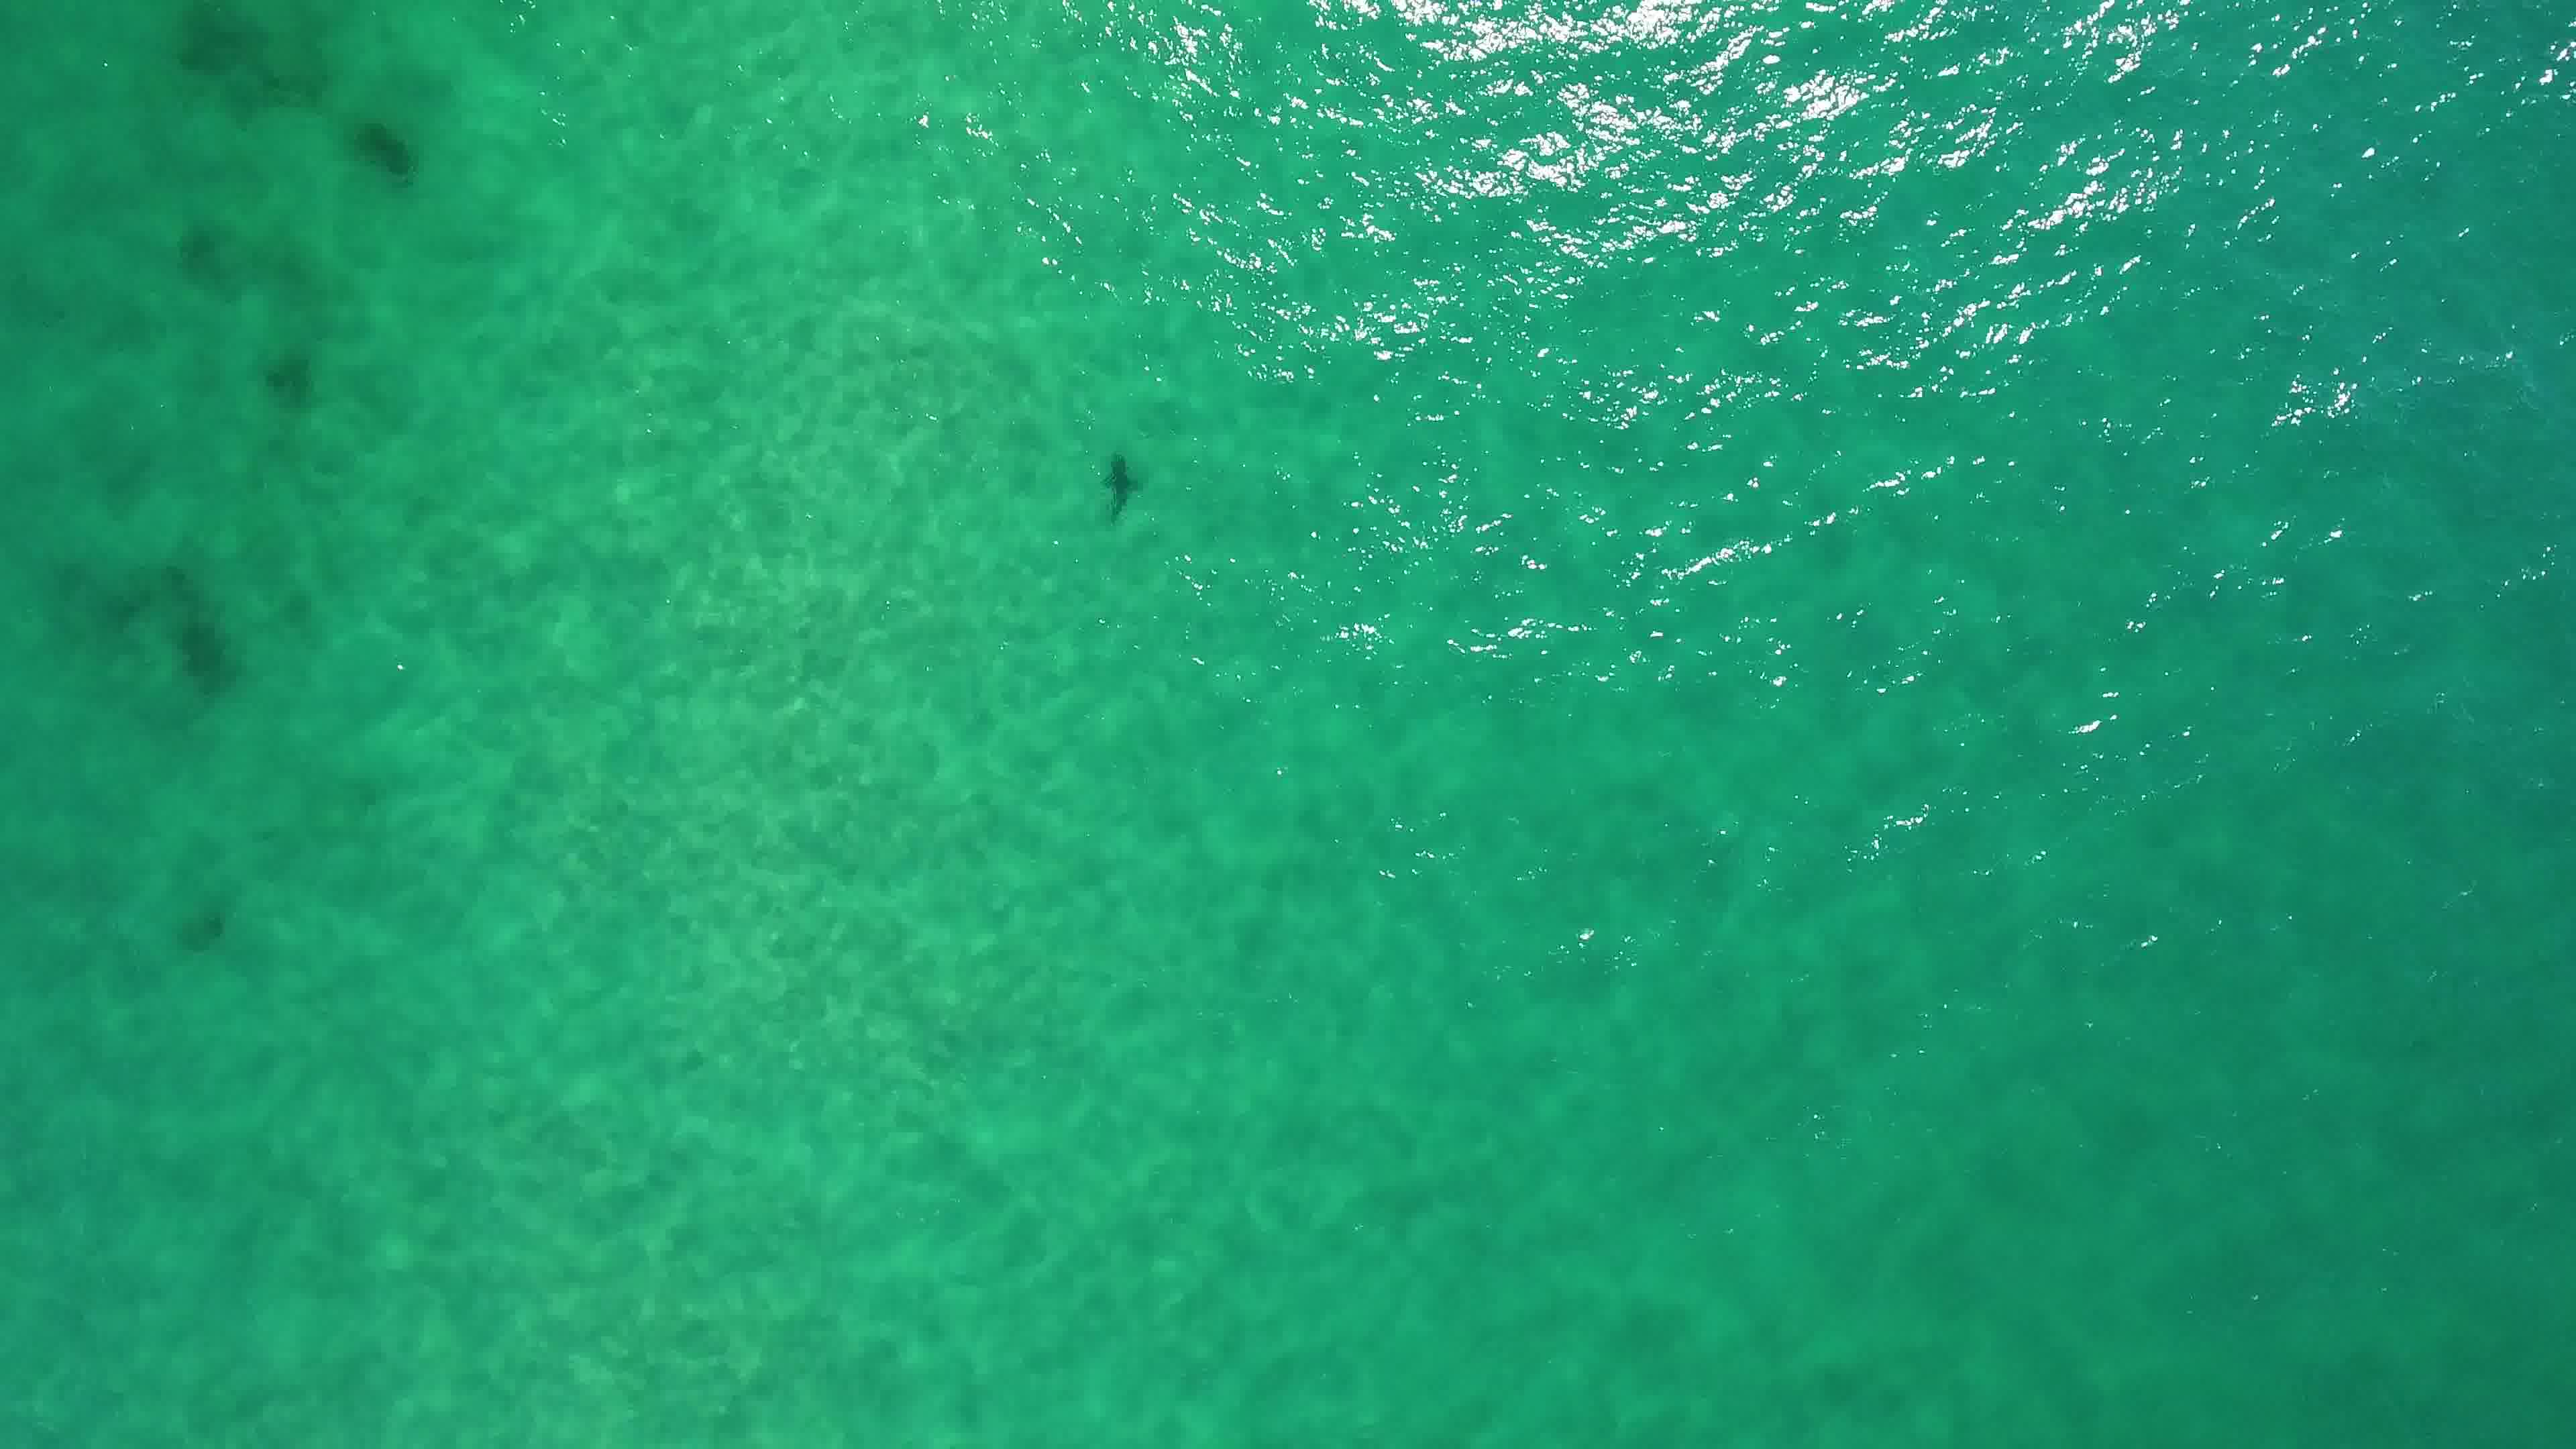shark: (1092, 448, 1146, 527)
